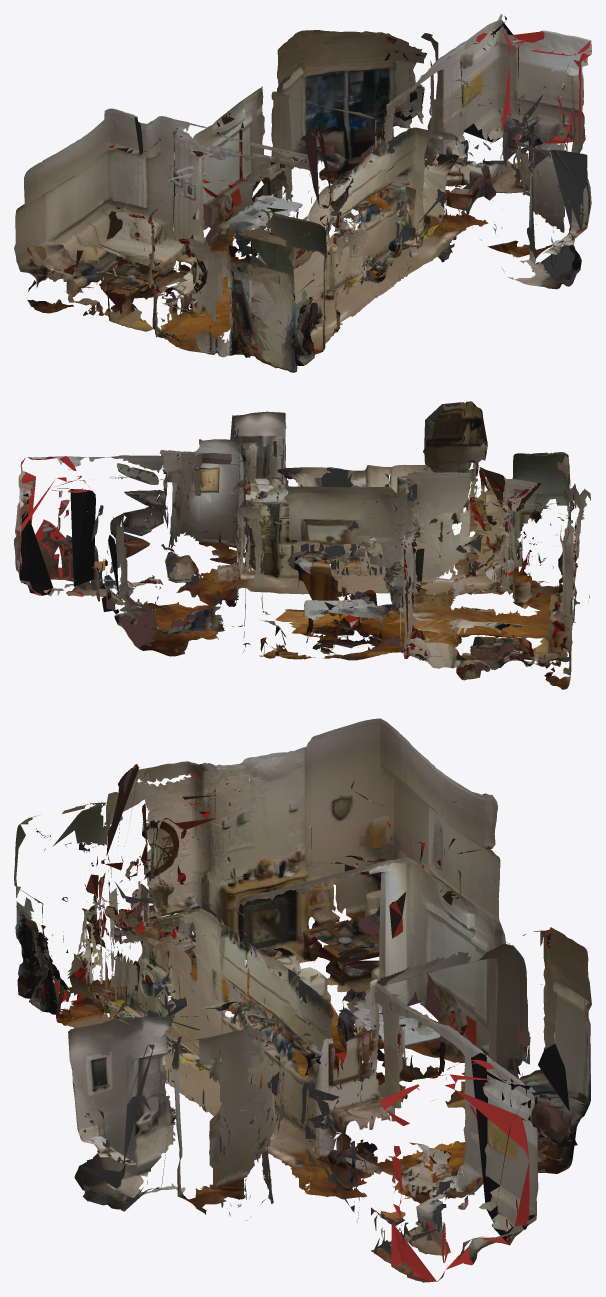
The model's file is casa1.glb.
3 renders of one model, top to bottom at view 1: azimuth 30°, elevation 25°; view 2: azimuth 150°, elevation 25°; view 3: azimuth 270°, elevation 25°, orthographic. The views are drawn at different scales.
Visible parts, largest first — view 1: AAA68293DD534CD98AE7F143745ABAB9, A7D5240422BB48B4AC894F4E27FE0E2B, 0D9C5FC1234644ADBB7CDABFBF8BACD2, 5D5E2A254EAE456E9743FB164462A410, 2E60FB8E0DB649B280F7E8FCDCB78DC9, 806D1AD2BAE6474A96A919EB0B851EA1; view 2: A7D5240422BB48B4AC894F4E27FE0E2B, AAA68293DD534CD98AE7F143745ABAB9, 0D9C5FC1234644ADBB7CDABFBF8BACD2, 2E60FB8E0DB649B280F7E8FCDCB78DC9, 806D1AD2BAE6474A96A919EB0B851EA1, 5D5E2A254EAE456E9743FB164462A410; view 3: A7D5240422BB48B4AC894F4E27FE0E2B, AAA68293DD534CD98AE7F143745ABAB9, 2E60FB8E0DB649B280F7E8FCDCB78DC9, 0D9C5FC1234644ADBB7CDABFBF8BACD2, 806D1AD2BAE6474A96A919EB0B851EA1, 5D5E2A254EAE456E9743FB164462A410.
Boxes of the visible parts, bbox=[...] form: AAA68293DD534CD98AE7F143745ABAB9: bbox=[26, 30, 470, 318]; A7D5240422BB48B4AC894F4E27FE0E2B: bbox=[245, 40, 591, 330]; 0D9C5FC1234644ADBB7CDABFBF8BACD2: bbox=[179, 126, 370, 372]; 5D5E2A254EAE456E9743FB164462A410: bbox=[476, 27, 591, 171]; 2E60FB8E0DB649B280F7E8FCDCB78DC9: bbox=[14, 160, 239, 350]; 806D1AD2BAE6474A96A919EB0B851EA1: bbox=[374, 14, 519, 142]; A7D5240422BB48B4AC894F4E27FE0E2B: bbox=[56, 402, 493, 617]; AAA68293DD534CD98AE7F143745ABAB9: bbox=[86, 487, 546, 680]; 0D9C5FC1234644ADBB7CDABFBF8BACD2: bbox=[454, 401, 590, 620]; 2E60FB8E0DB649B280F7E8FCDCB78DC9: bbox=[489, 488, 589, 689]; 806D1AD2BAE6474A96A919EB0B851EA1: bbox=[19, 488, 118, 614]; 5D5E2A254EAE456E9743FB164462A410: bbox=[14, 456, 88, 596]; A7D5240422BB48B4AC894F4E27FE0E2B: bbox=[68, 764, 477, 1271]; AAA68293DD534CD98AE7F143745ABAB9: bbox=[223, 730, 591, 1199]; 2E60FB8E0DB649B280F7E8FCDCB78DC9: bbox=[140, 718, 414, 998]; 0D9C5FC1234644ADBB7CDABFBF8BACD2: bbox=[14, 764, 216, 1028]; 806D1AD2BAE6474A96A919EB0B851EA1: bbox=[471, 1043, 577, 1245]; 5D5E2A254EAE456E9743FB164462A410: bbox=[380, 1059, 529, 1282].
Bounding box in the file's own units: 13.42 × 4.53 × 8.42.
Materials: 6 (6 with a texture image).
